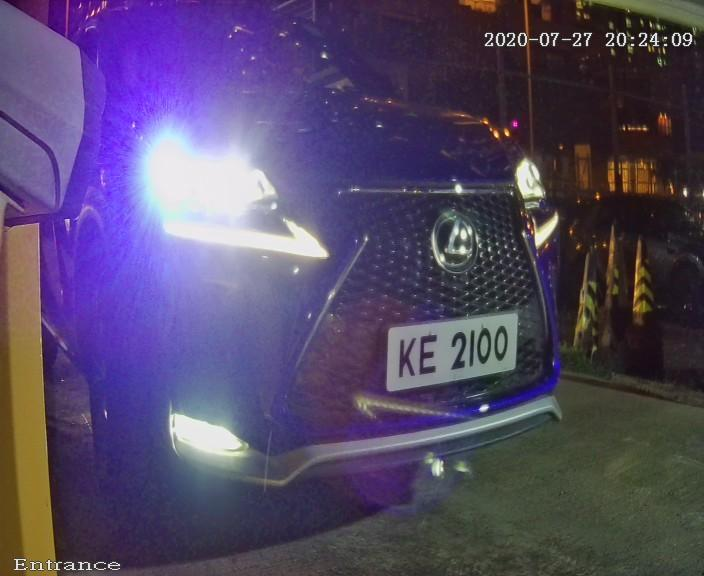privatecar: (29, 2, 601, 496)
